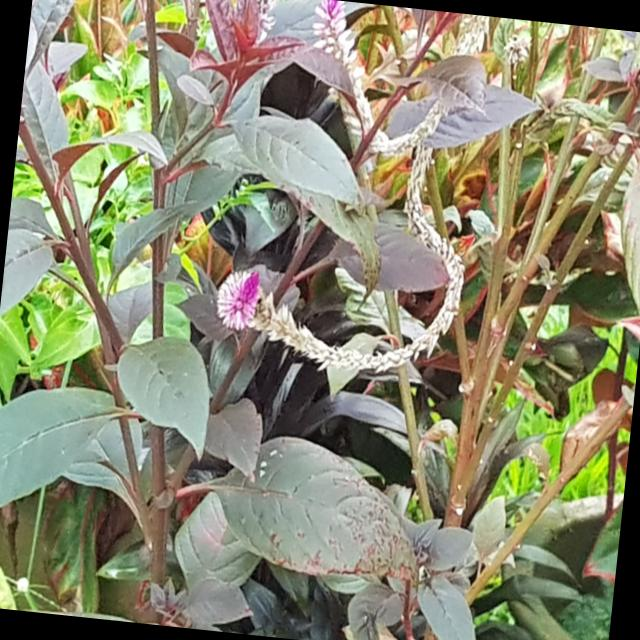Celosia-Argentea: (202, 256, 334, 374), (307, 0, 354, 70)
